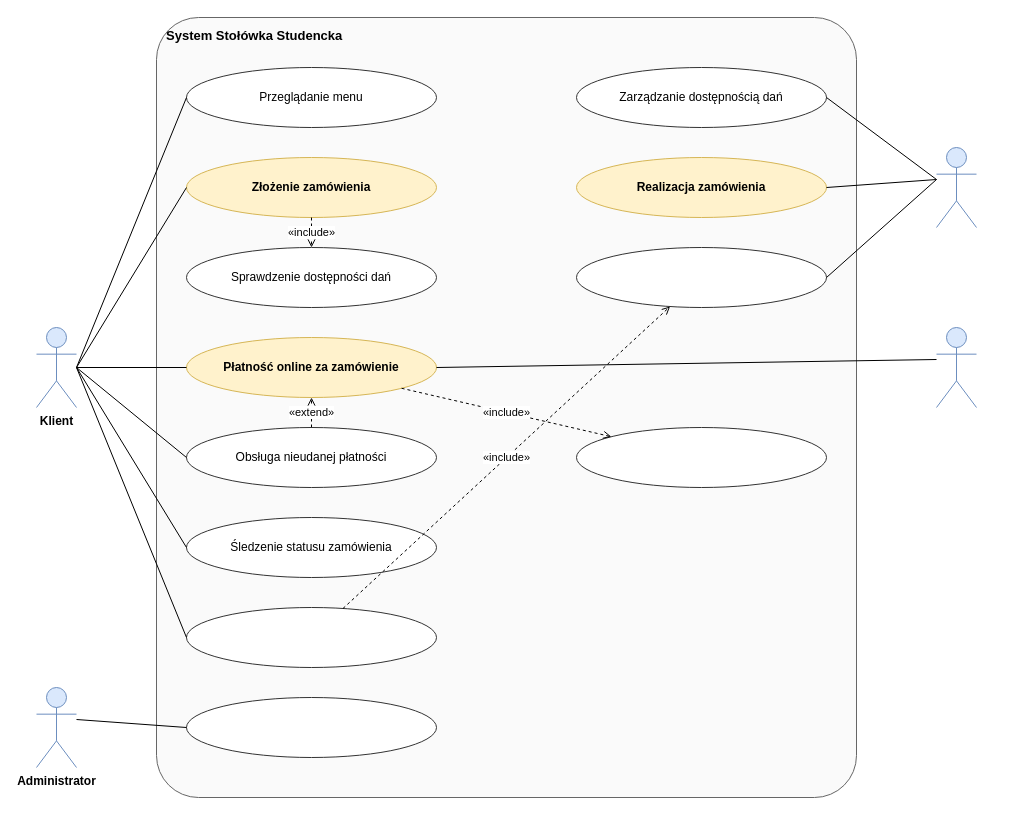
Some shapes in this 1023 by 815 pixel diagram are drawn without their labels. The shapes that lost their labels are listed below. From the top down, each one's centre as x and y in pixels, then its label:
At pixel 956 187: "Pracownik stołówki".
At pixel 701 277: "Weryfikacja numeru i wydanie zamówienia".
At pixel 956 367: "System płatności (zewnętrzny)".
At pixel 701 457: "Rejestracja opłaconego zamówienia".
At pixel 311 637: "Odbiór zamówienia".
At pixel 311 727: "Przygotowanie i publikacja menu".
